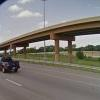Bridge: (5, 15, 95, 54)
